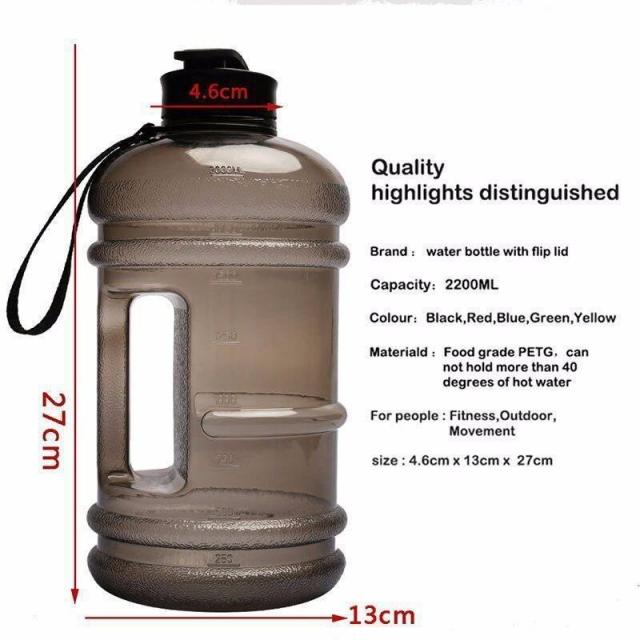gym bottle: (78, 46, 352, 613)
